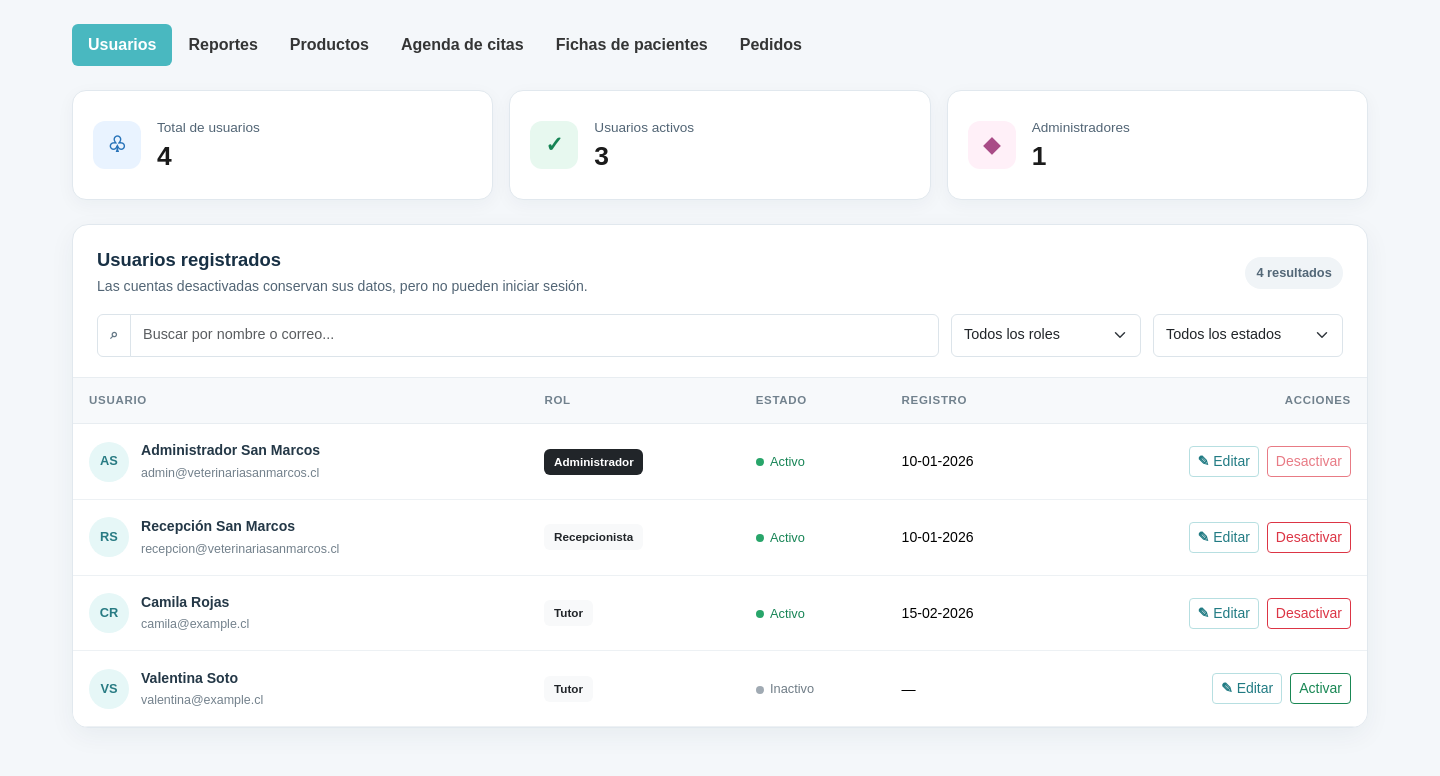
Test: Usuarios (administración) › edita el nombre y asigna otro rol
The width and height of the screenshot is (1440, 776).
(page scrolled)
Click the button "Editar" in the row of "Camila Rojas" at coordinates (1224, 613), box left=1188, top=598, right=1259, bottom=629
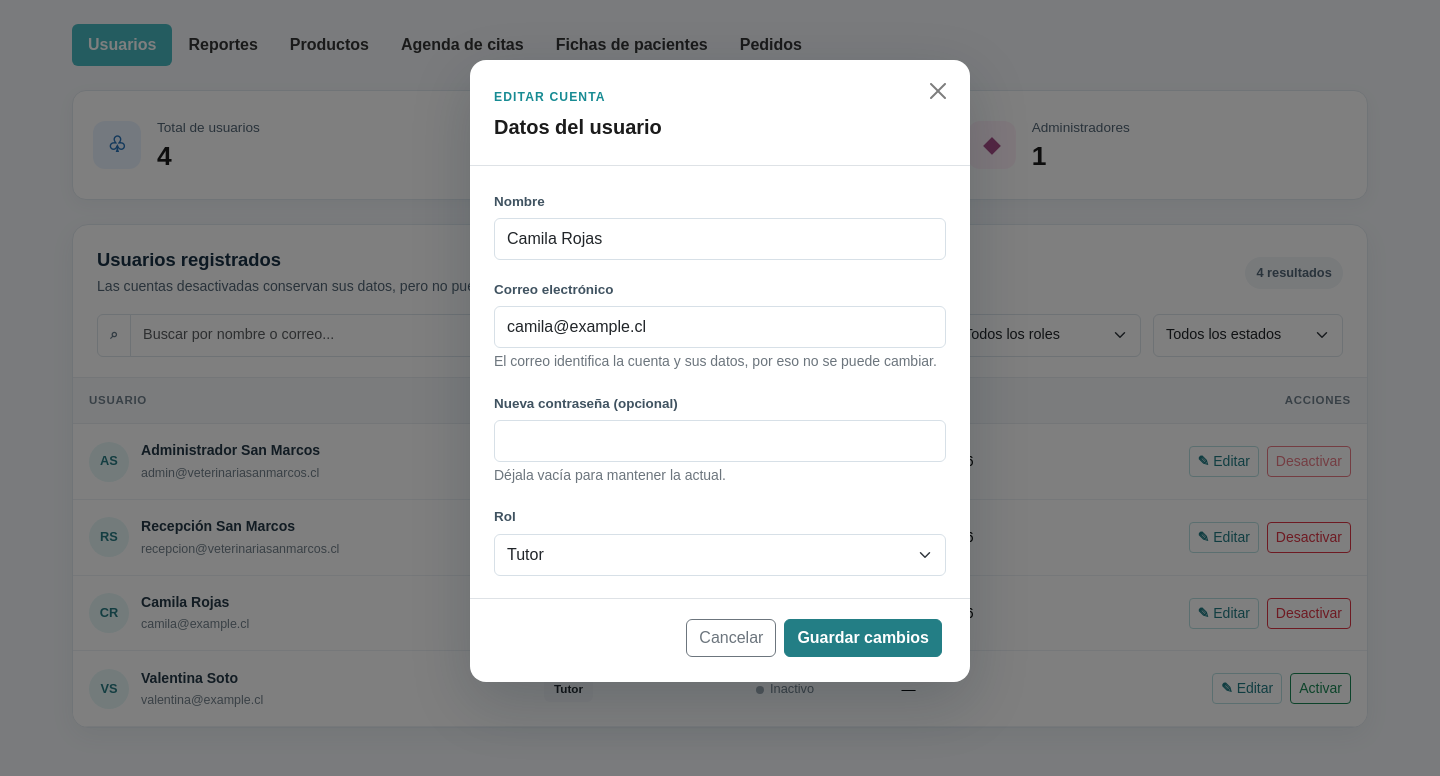
Replace the text in the field labelled "Nombre" with "Camila R." at coordinates (720, 239), box left=494, top=218, right=946, bottom=260
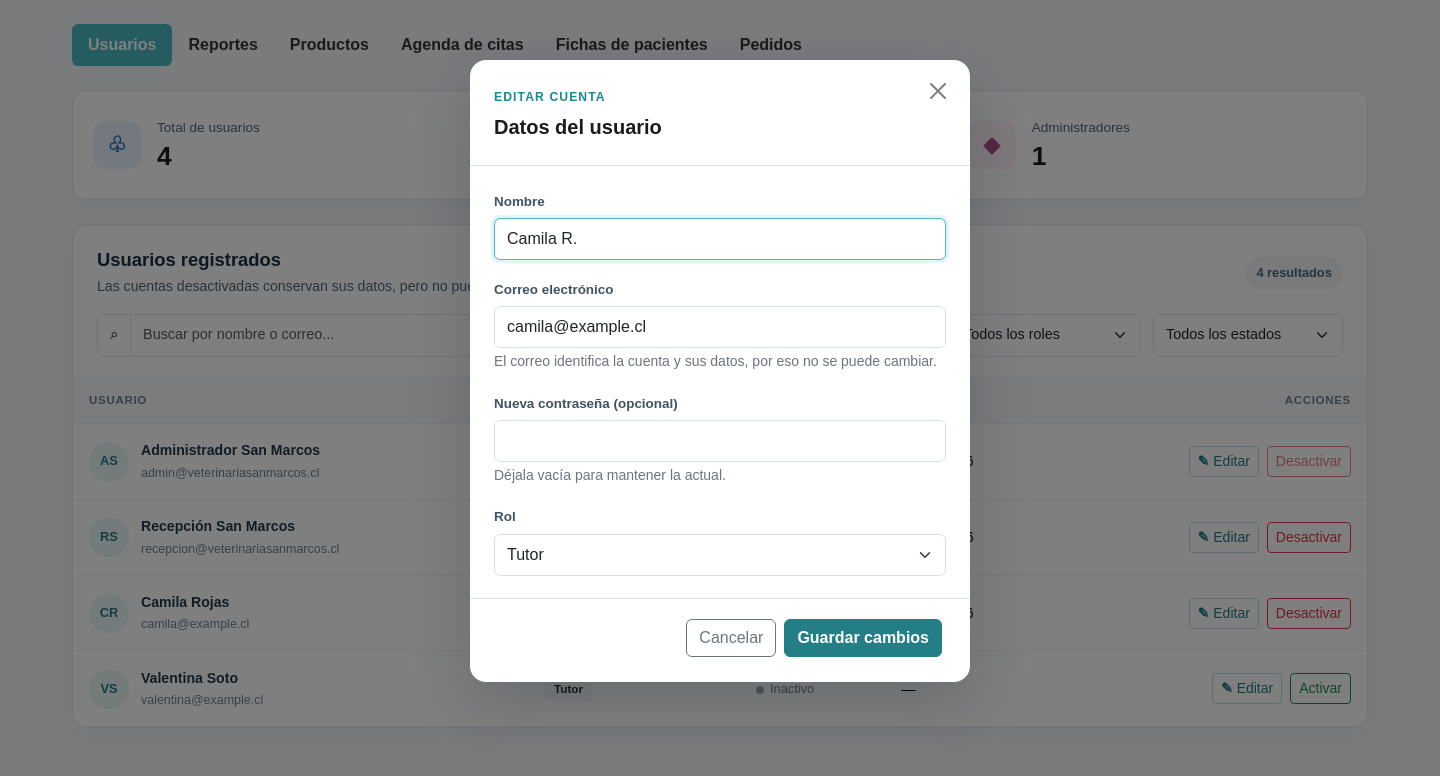
Select "Recepcionista" in the dropdown labelled "Rol" at coordinates (720, 555), box left=494, top=534, right=946, bottom=576
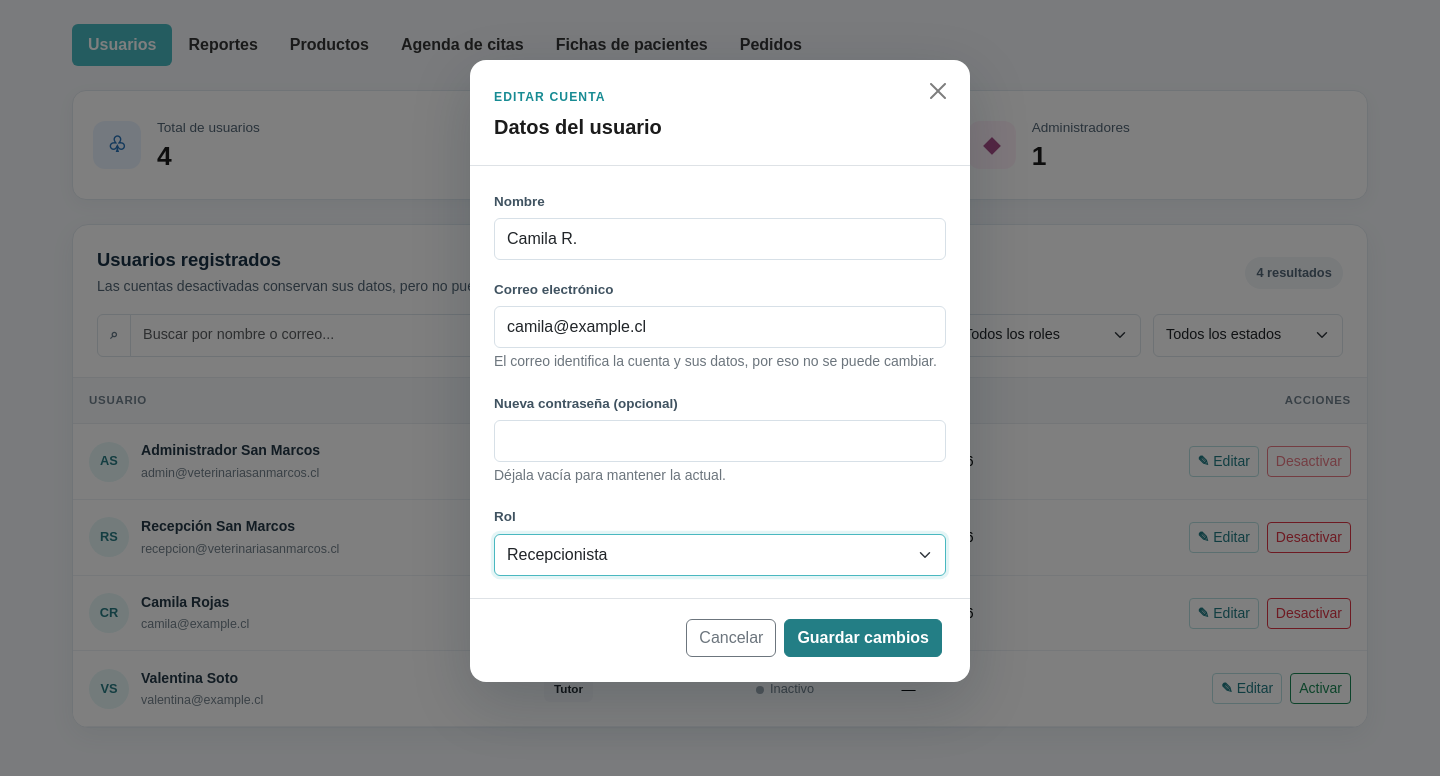
Click the button "Guardar cambios" at coordinates (863, 638), box left=784, top=619, right=942, bottom=657
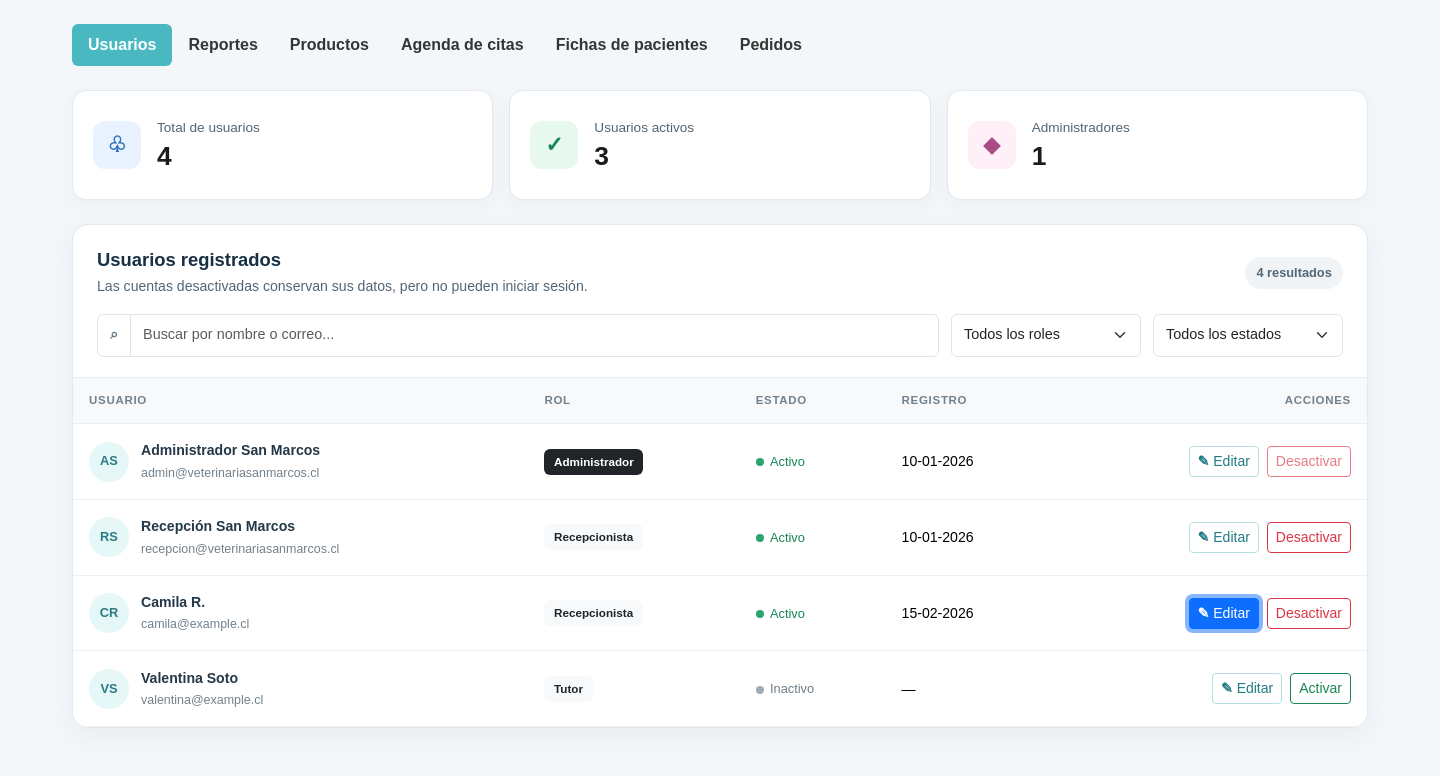
Expected: the text "Camila R." is shown, left=141, top=594, right=205, bottom=610
Expected: the text "Recepcionista" in the row of "Camila R." is shown, left=554, top=606, right=633, bottom=619
